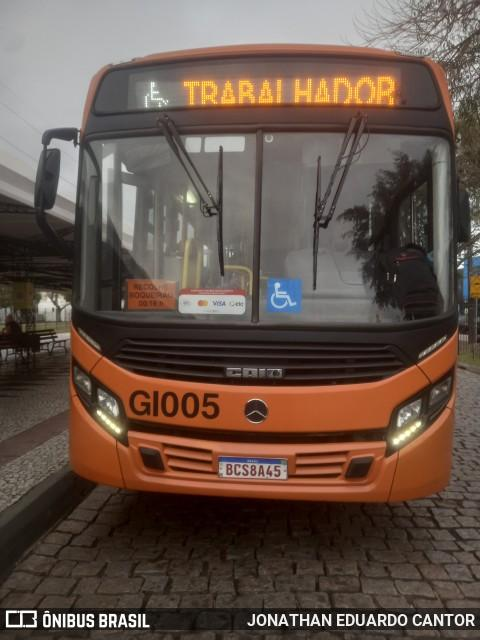TRABALHADOR: (178, 70, 402, 115)
